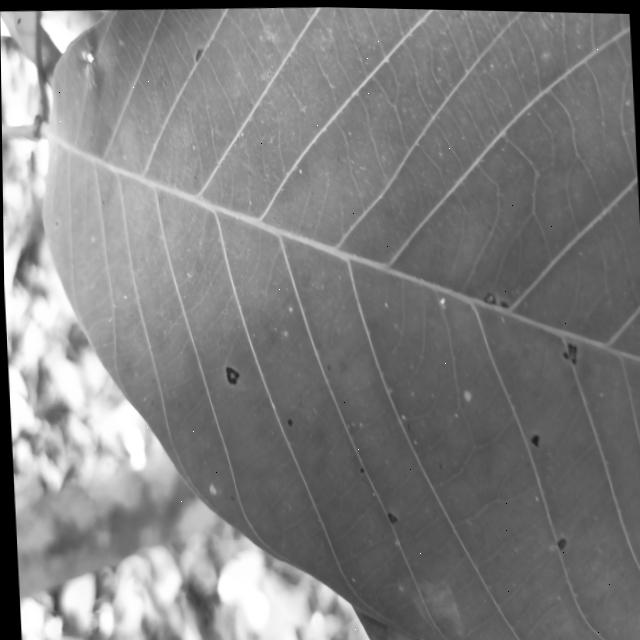Colletotrichum: (223, 365, 238, 384), (481, 290, 493, 303), (285, 417, 290, 425)
